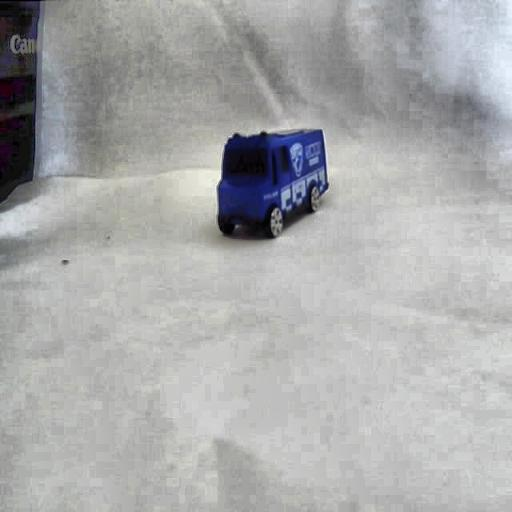police car: (216, 137, 332, 234)
